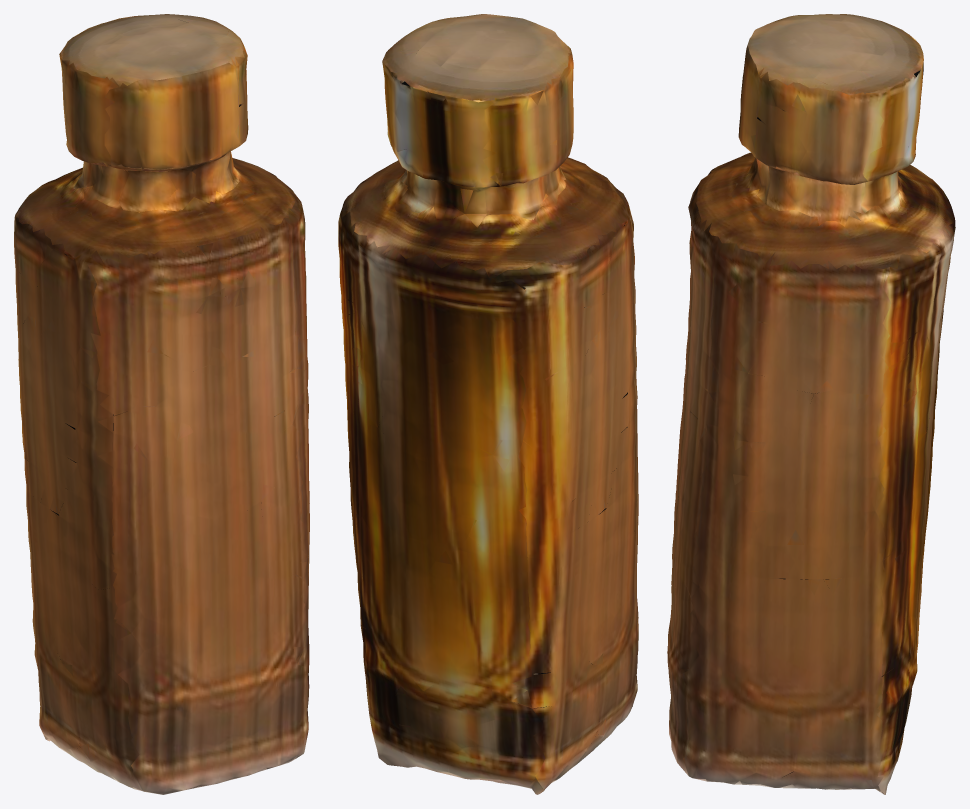
Rendered from bottle.glb.
The picture shows the model from 3 angles, left to right: view 1: azimuth 30°, elevation 25°; view 2: azimuth 150°, elevation 25°; view 3: azimuth 270°, elevation 25°; orthographic projection.
Visible parts, largest first — view 1: world; view 2: world; view 3: world.
Boxes of the visible parts, x1,y1,x2,y2 form: world: [14, 14, 309, 794]; world: [338, 14, 638, 794]; world: [667, 14, 955, 794].
Size of the model in its own units: 0.3231 by 0.9084 by 0.3292.
1 material, 1 textured.
